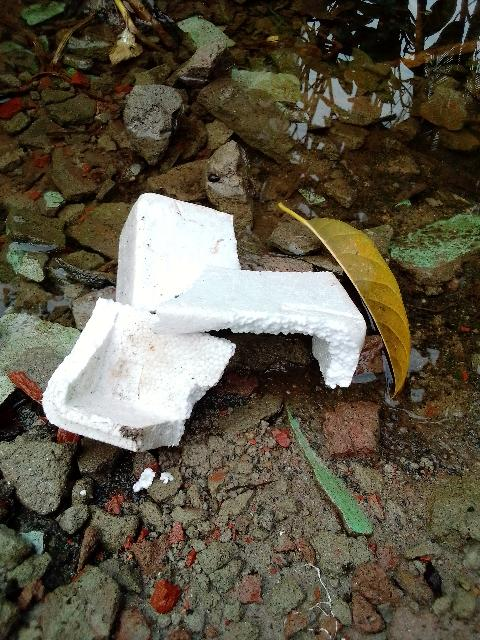cocksheet: (49, 211, 350, 492)
